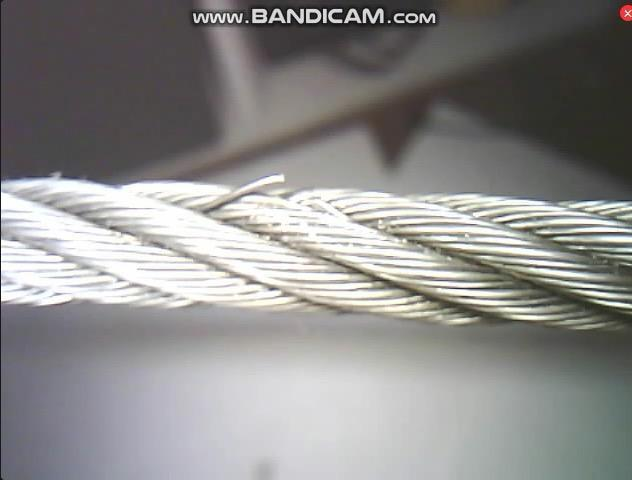break: (218, 151, 298, 208)
